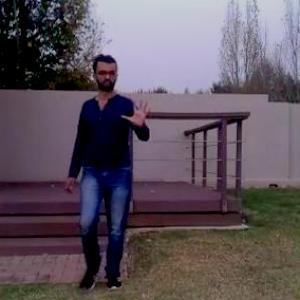follow_hand: (122, 93, 152, 130)
